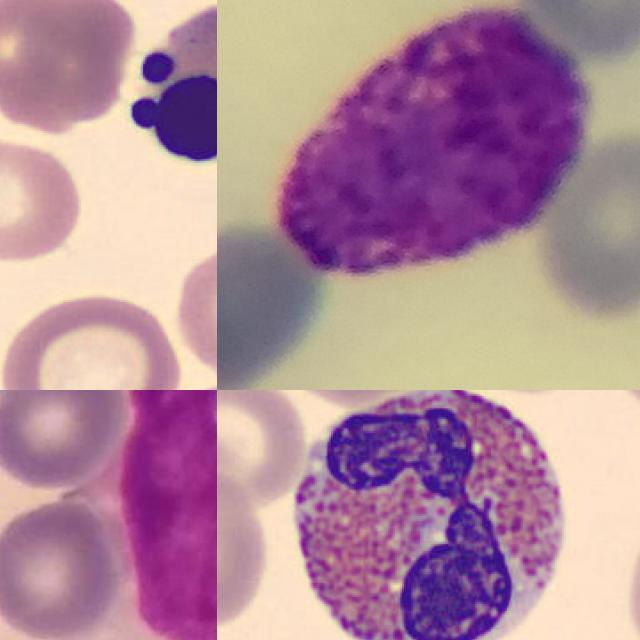Basophil: (276, 2, 591, 271)
Eosinophil: (277, 390, 587, 640)
Lymphocyte: (107, 0, 217, 185)
Monocyte: (100, 390, 217, 640)
RBC: (0, 284, 186, 390), (0, 0, 137, 127), (0, 129, 86, 266), (217, 390, 311, 510), (217, 464, 274, 630), (171, 240, 217, 383)
